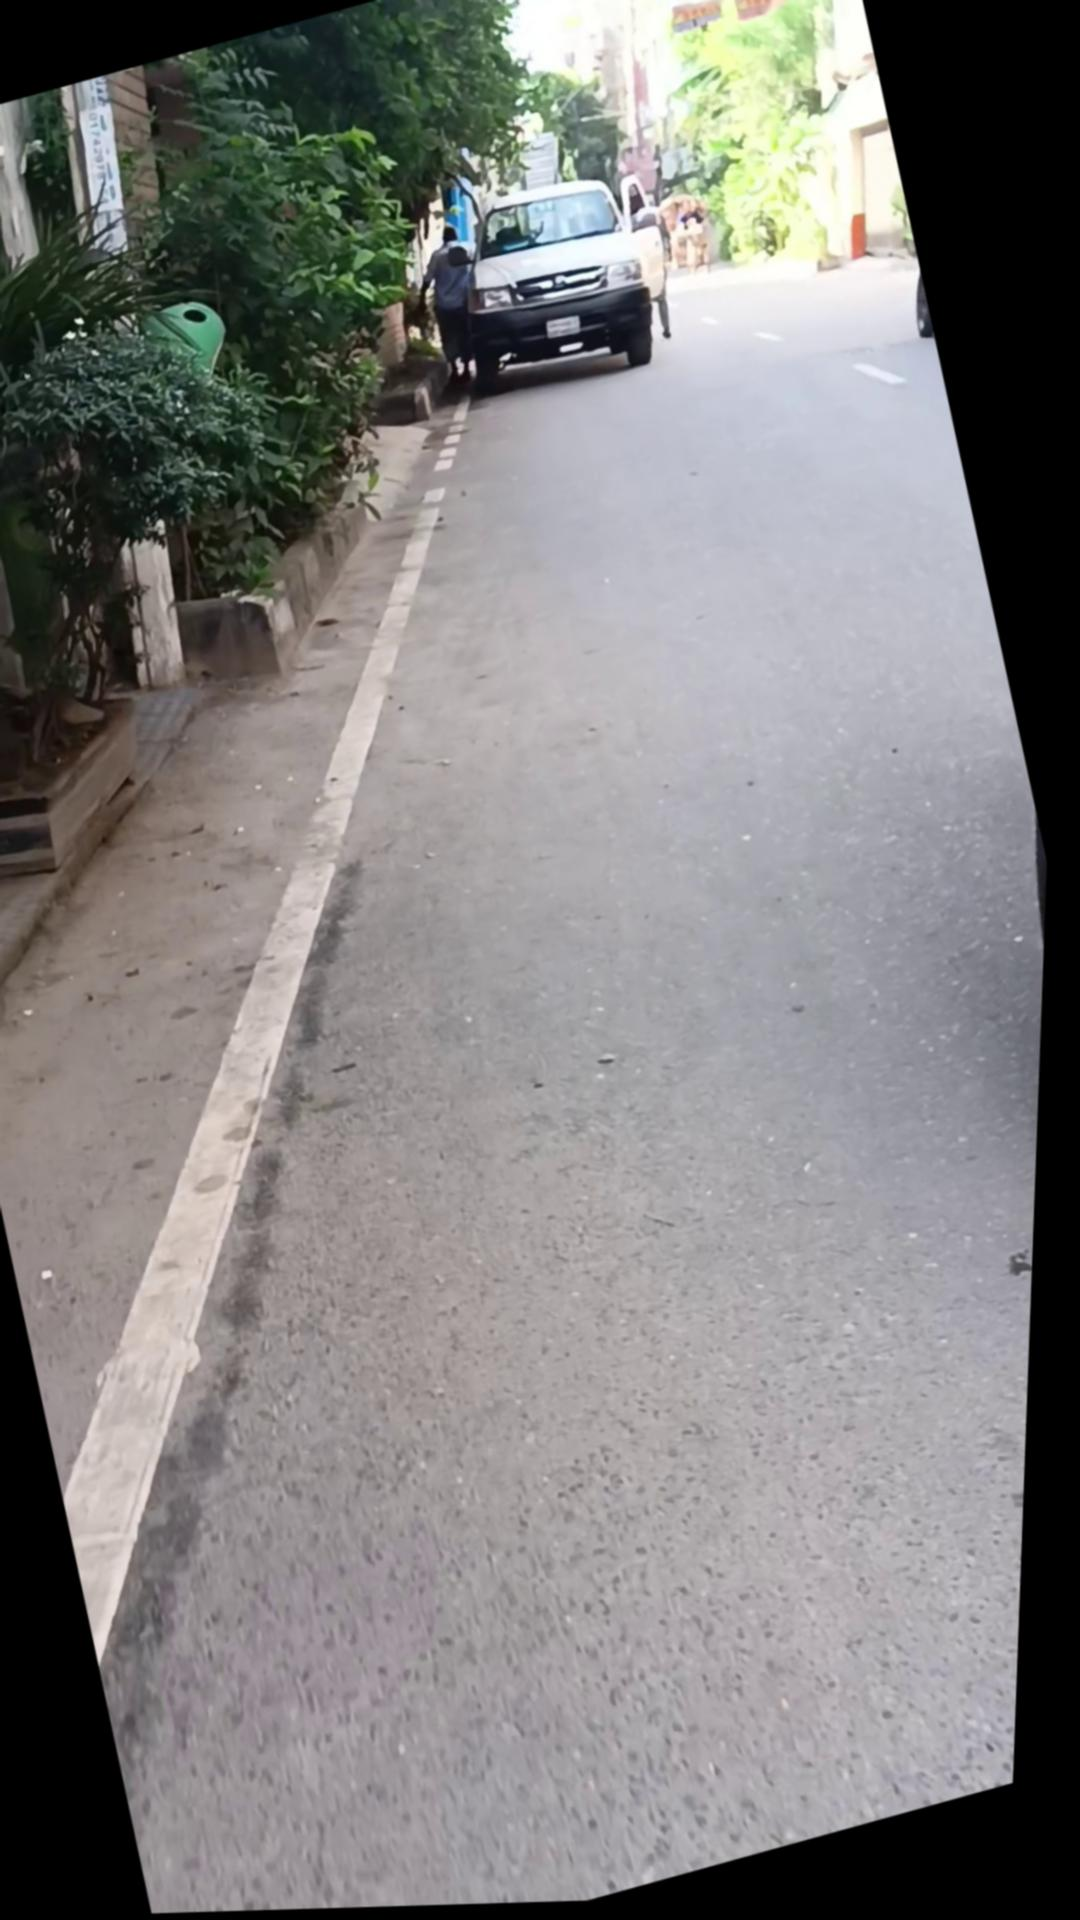Bollard: (426, 157, 698, 417)
Broken-road: (141, 351, 512, 694)
Curb: (402, 222, 504, 390)
Fallen-tree: (0, 182, 149, 473)
Light-pole: (117, 0, 582, 396), (625, 0, 902, 309)
